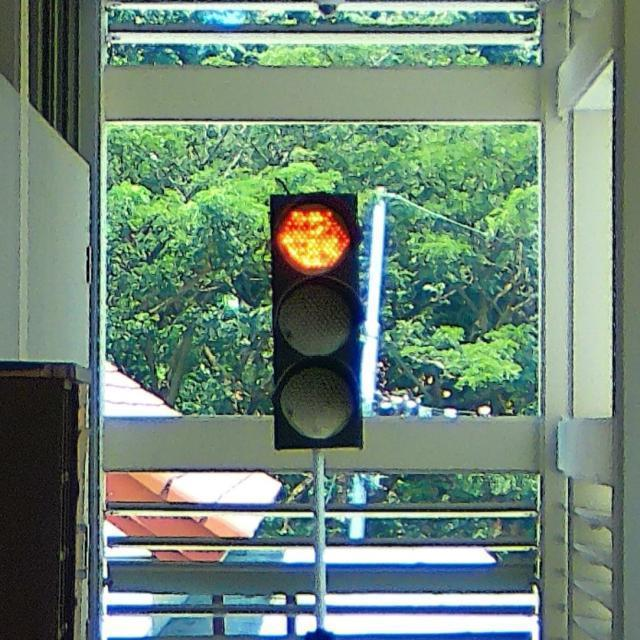Lampu Merah: (269, 192, 366, 447)
